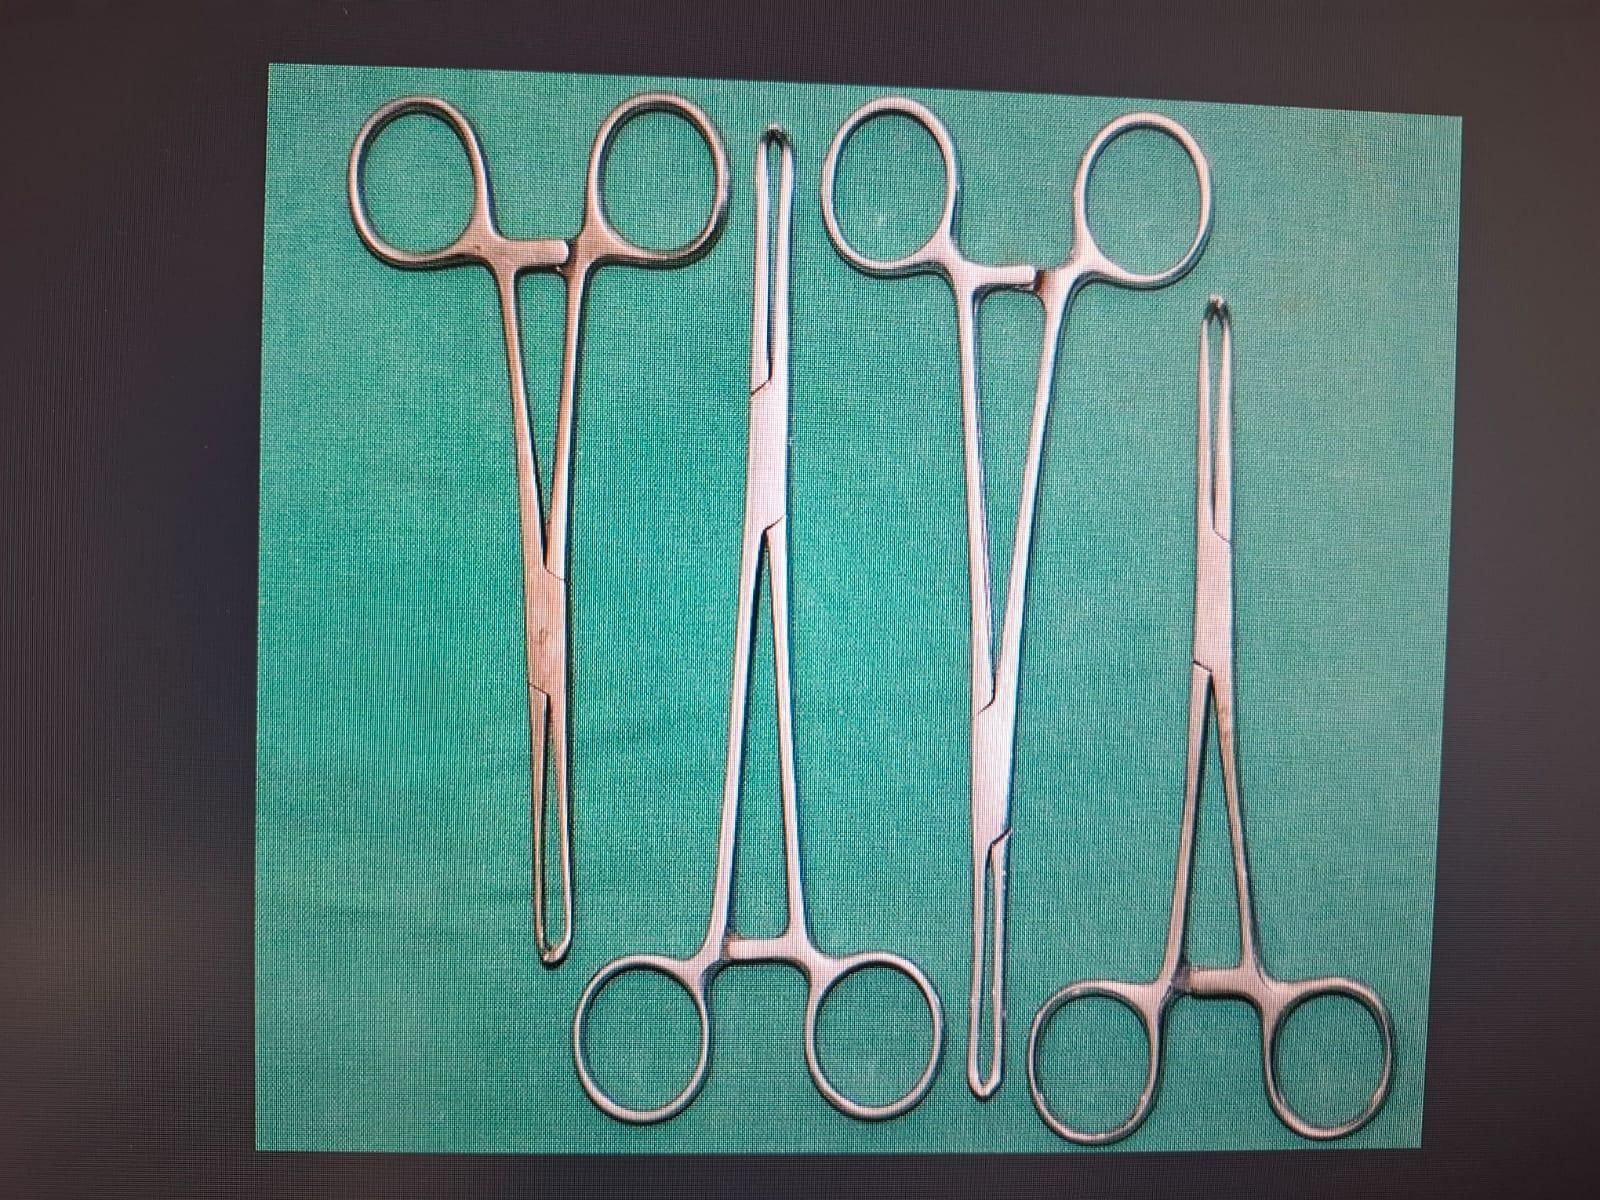Allis Forceps: (574, 120, 957, 1150), (816, 88, 1216, 1058), (333, 82, 746, 978), (1020, 297, 1437, 1160)
